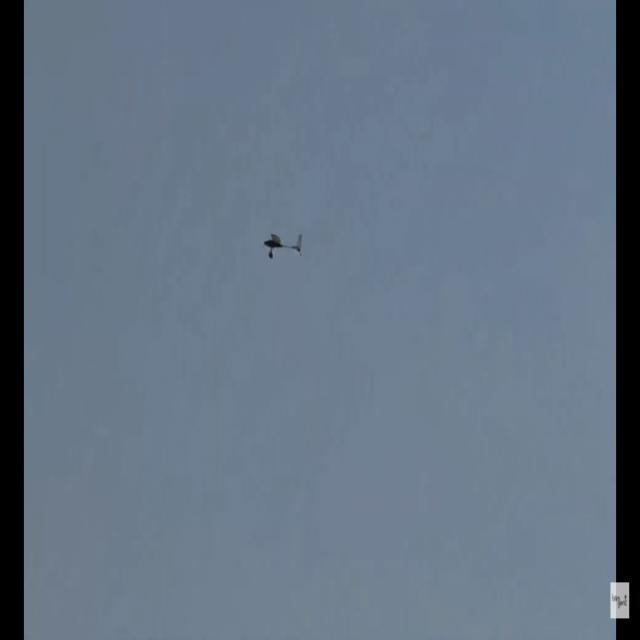iha: (263, 232, 303, 260)
